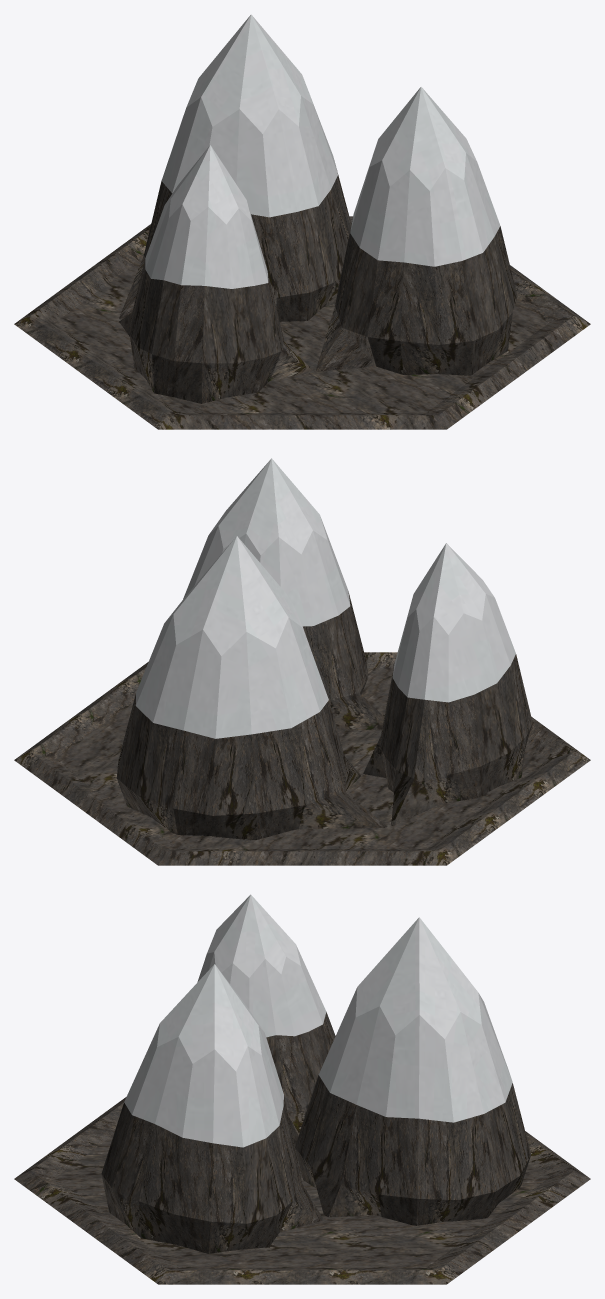
File: mountains.glb
3 views of the same model, one above another, from view 1: azimuth 30°, elevation 25°; view 2: azimuth 150°, elevation 25°; view 3: azimuth 270°, elevation 25° (orthographic).
Parts seen in each view (by area): view 1: Mountains, HexagonTile.002; view 2: Mountains, HexagonTile.002; view 3: Mountains, HexagonTile.002.
Boxes of the visible parts, bbox=[...] form: Mountains: bbox=[119, 14, 517, 403]; HexagonTile.002: bbox=[14, 216, 590, 429]; Mountains: bbox=[116, 458, 532, 840]; HexagonTile.002: bbox=[14, 652, 590, 865]; Mountains: bbox=[101, 894, 530, 1253]; HexagonTile.002: bbox=[14, 1097, 590, 1284].
Size of the model in its own units: 1.73 by 1.06 by 2.
Materials: 2 (2 with a texture image).
